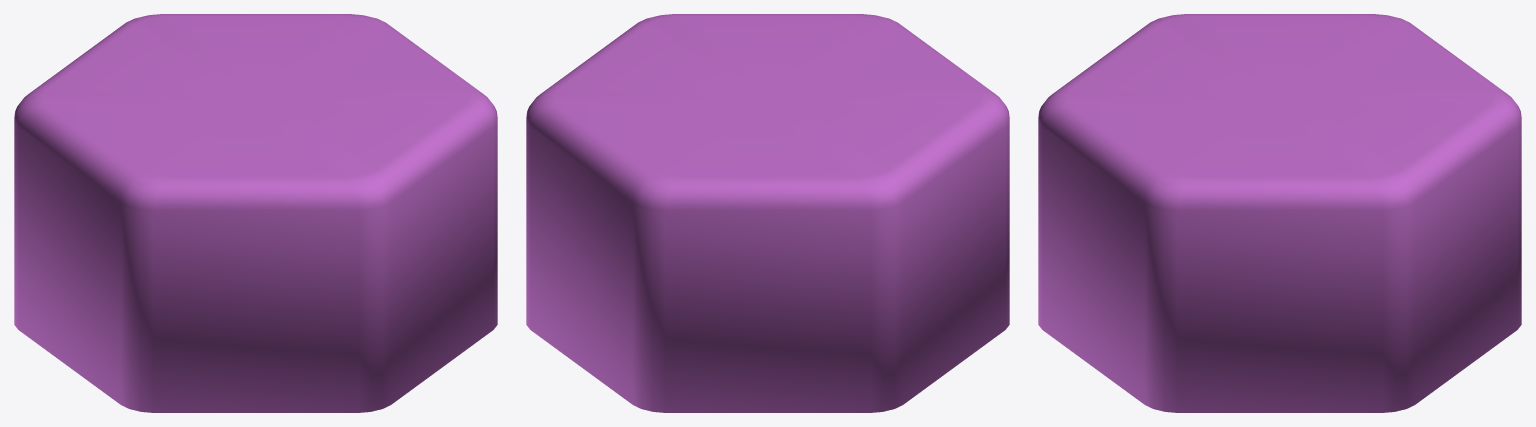
File: Hexagonal_ungu .fbx
3 renders of one model, left to right at view 1: azimuth 30°, elevation 25°; view 2: azimuth 150°, elevation 25°; view 3: azimuth 270°, elevation 25°, orthographic.
Parts seen in each view (by area): view 1: Mesh_0.012; view 2: Mesh_0.012; view 3: Mesh_0.012.
Boxes of the visible parts, bbox=[...] form: Mesh_0.012: bbox=[14, 14, 497, 412]; Mesh_0.012: bbox=[526, 14, 1009, 412]; Mesh_0.012: bbox=[1038, 14, 1521, 412].
Size of the model in its own units: 8.66 by 5 by 9.73.
